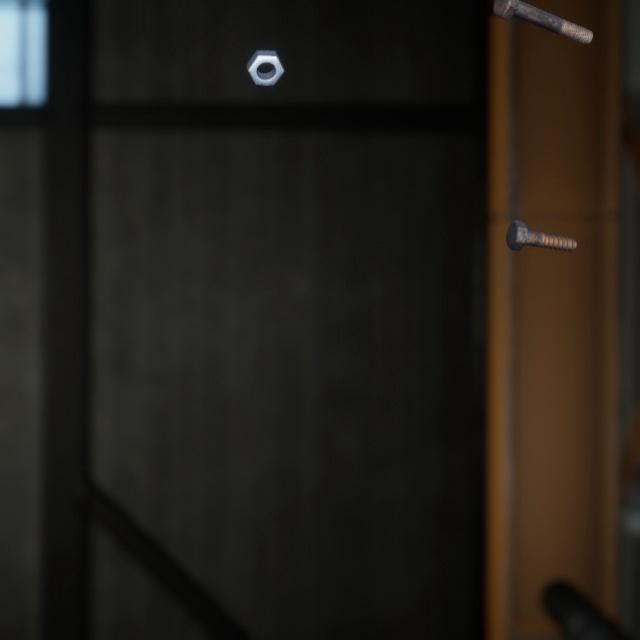bolt: (488, 0, 597, 41), (501, 199, 582, 241)
nut: (242, 34, 289, 79)
